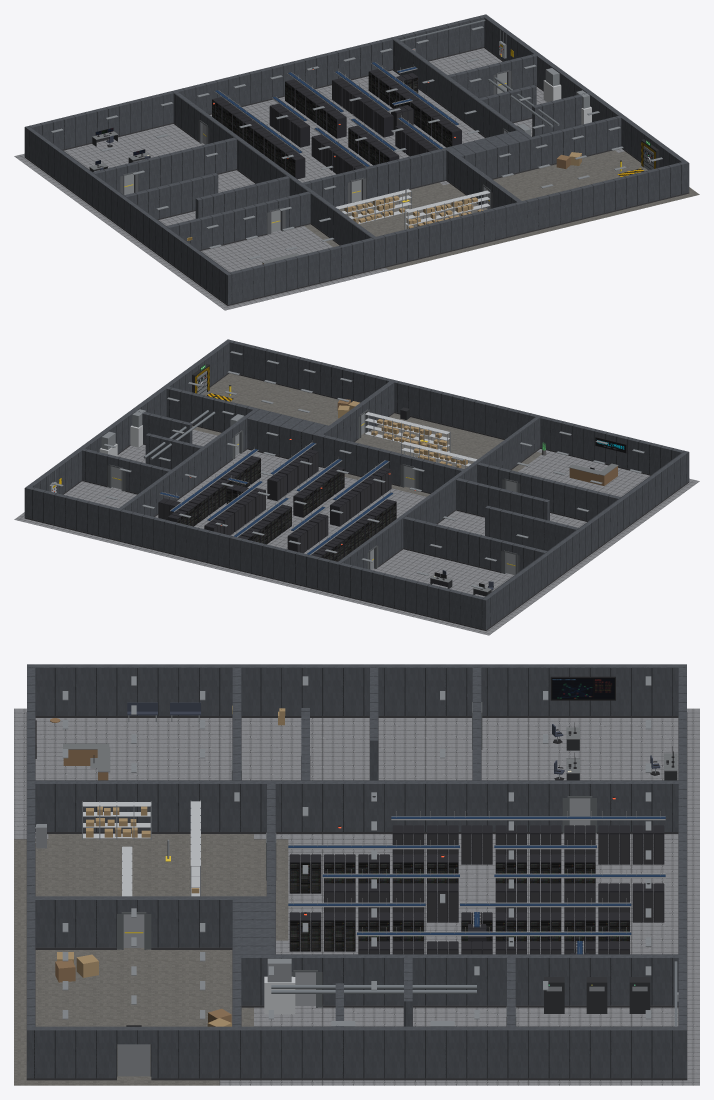
The model's file is kernelpanic_mapa_sin_techo.glb.
The picture shows the model from 3 angles, top to bottom: view 1: azimuth 30°, elevation 25°; view 2: azimuth 150°, elevation 25°; view 3: azimuth 270°, elevation 25°; orthographic projection. The views are drawn at different scales.
Parts seen in each view (by area): view 1: Muros, Piso_Boveda, Piso_Recepcion, Piso_SalaRacks, Piso_NOC, Piso_Bodega, Zocalos, Cables_Bandeja, Bandejas_Cable, Estanteria_2, Estanteria_1, Piso_Pasillo (+4 smaller); view 2: Muros, Piso_SalaRacks, Piso_Boveda, Piso_NOC, Piso_Recepcion, Piso_Bodega, Zocalos, Cables_Bandeja, Estanteria_2, Piso_Pasillo, Bandejas_Cable, Piso_Electrico (+4 smaller); view 3: Muros, Piso_Boveda, Piso_SalaRacks, Piso_Bodega, Piso_Pasillo, Piso_Recepcion, Piso_NOC, Zocalos, Piso_Enfriamiento, Bandejas_Cable, Piso_Electrico, Cables_Bandeja (+13 smaller).
Boxes of the visible parts, <box> form: Muros: <box>24,14,689,304</box>; Piso_Boveda: <box>454,150,699,234</box>; Piso_Recepcion: <box>151,226,388,310</box>; Piso_SalaRacks: <box>167,76,477,185</box>; Piso_NOC: <box>14,125,195,202</box>; Piso_Bodega: <box>304,182,534,270</box>; Zocalos: <box>24,47,689,305</box>; Cables_Bandeja: <box>215,62,458,166</box>; Bandejas_Cable: <box>214,62,459,166</box>; Estanteria_2: <box>404,190,490,229</box>; Estanteria_1: <box>335,188,411,223</box>; Piso_Pasillo: <box>77,172,248,256</box>; Muros: <box>24,339,689,629</box>; Piso_SalaRacks: <box>124,452,462,599</box>; Piso_Boveda: <box>192,373,396,443</box>; Piso_NOC: <box>343,553,551,635</box>; Piso_Recepcion: <box>518,449,699,534</box>; Piso_Bodega: <box>344,413,541,496</box>; Zocalos: <box>24,373,689,630</box>; Cables_Bandeja: <box>160,442,393,554</box>; Estanteria_2: <box>364,412,450,452</box>; Piso_Pasillo: <box>406,512,625,589</box>; Bandejas_Cable: <box>159,440,394,554</box>; Piso_Electrico: <box>14,481,158,546</box>; Muros: <box>27,664,686,1078</box>; Piso_Boveda: <box>14,948,253,1085</box>; Piso_SalaRacks: <box>276,824,699,1012</box>; Piso_Bodega: <box>14,834,288,954</box>; Piso_Pasillo: <box>254,718,494,839</box>; Piso_Recepcion: <box>14,708,253,839</box>; Piso_NOC: <box>494,708,699,824</box>; Zocalos: <box>26,712,687,1080</box>; Piso_Enfriamiento: <box>219,1006,528,1085</box>; Bandejas_Cable: <box>288,811,665,954</box>; Piso_Electrico: <box>494,998,699,1085</box>; Cables_Bandeja: <box>288,816,665,954</box>.
Bounding box in the file's own units: 52 × 3.2 × 40.
Materials: 51 (15 with a texture image).
